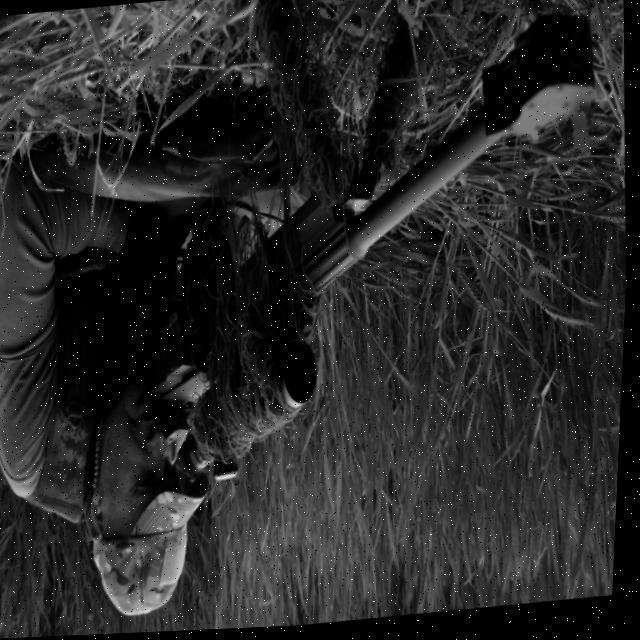firearm: (127, 0, 621, 493)
